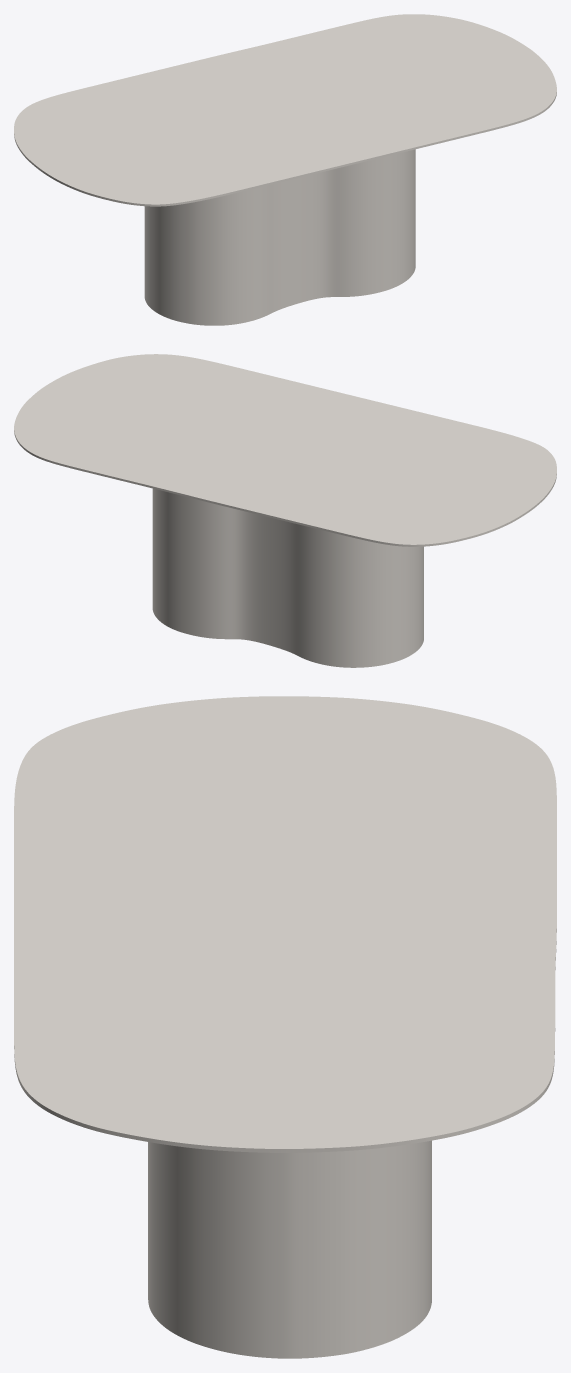
Rendered from pearlwhite_oval_facet_riverwave.glb.
3 renders of one model, top to bottom at view 1: azimuth 30°, elevation 25°; view 2: azimuth 150°, elevation 25°; view 3: azimuth 270°, elevation 25°, orthographic. The views are drawn at different scales.
Parts seen in each view (by area): view 1: facet_oval, riverwave; view 2: facet_oval, riverwave; view 3: facet_oval, riverwave.
Part boxes in pixels (bbox=[...]): facet_oval: bbox=[14, 14, 556, 206]; riverwave: bbox=[144, 149, 415, 325]; facet_oval: bbox=[14, 354, 556, 546]; riverwave: bbox=[152, 488, 423, 667]; facet_oval: bbox=[14, 696, 556, 1152]; riverwave: bbox=[148, 1140, 431, 1358].
Bounding box in the file's own units: 7.5 × 2.5 × 3.8.
Materials: 1 (1 with a texture image).
